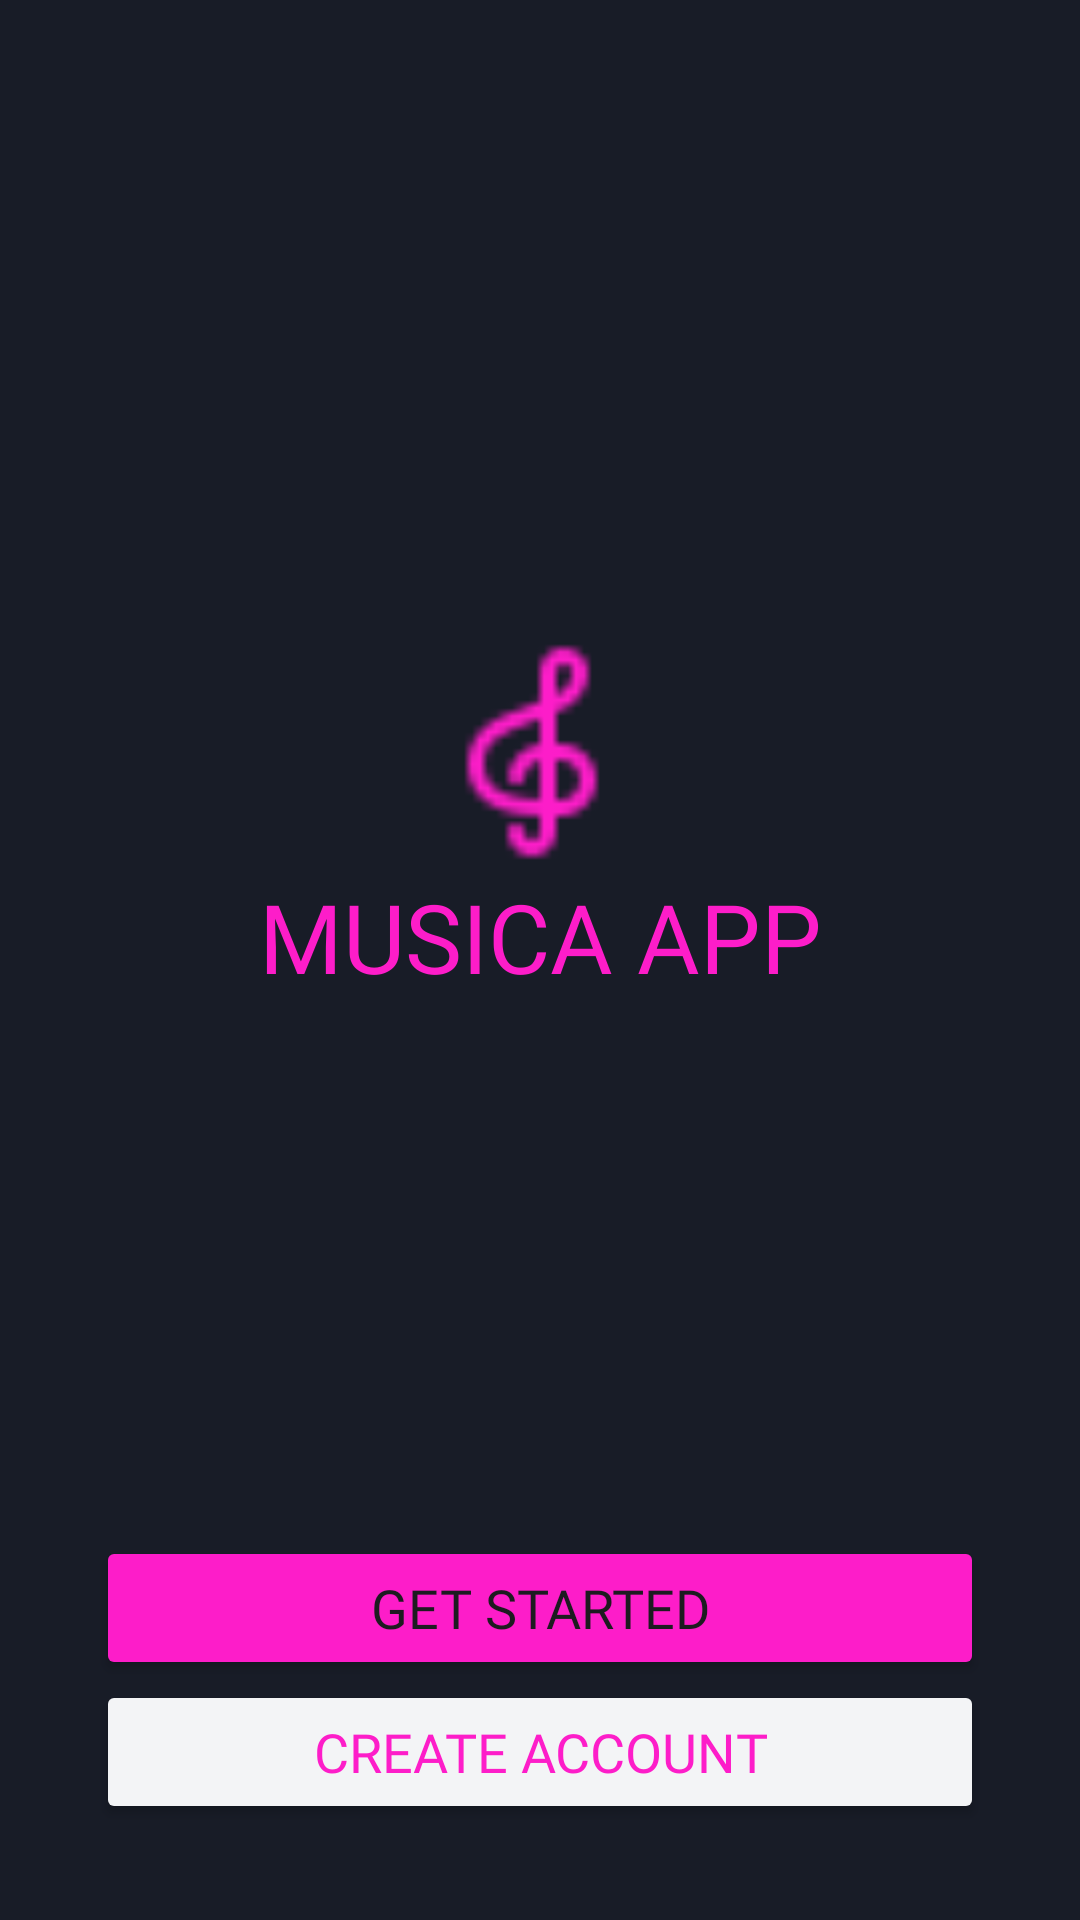

Icon bounding boxes for this 1080x1920 phone screenshot, format (x1=x1, y1=y1, x2=x2, y2=y2):
treble cef: (x1=465, y1=645, x2=599, y2=859)
